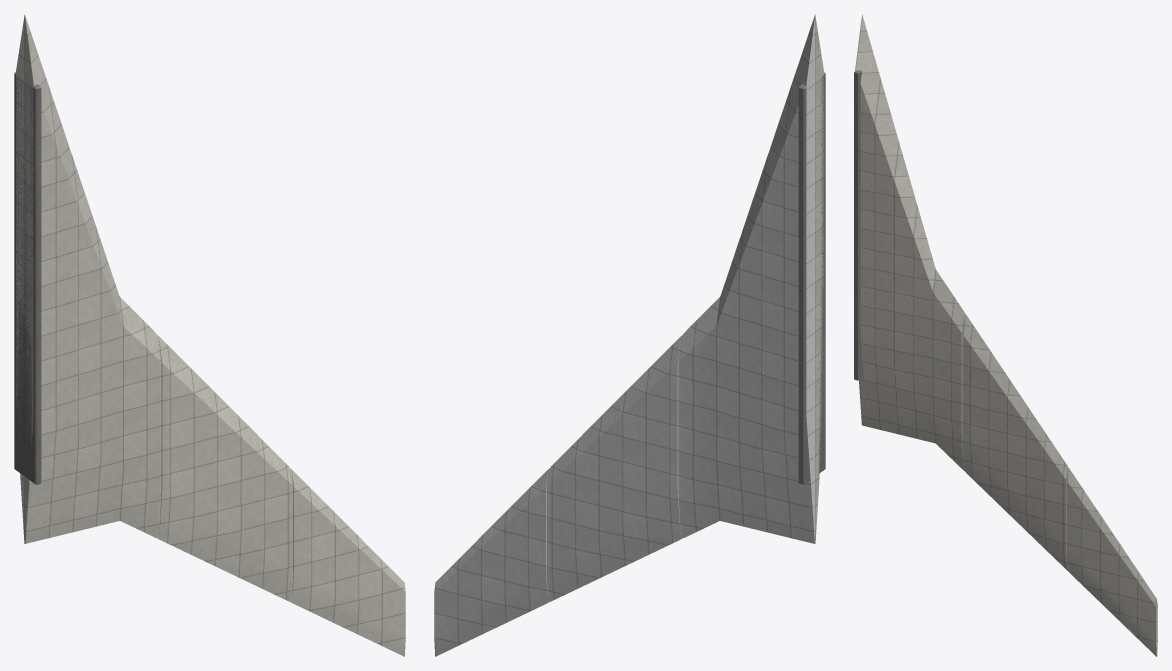
Rendered from ax_aero_17_wgd_delta_wing_s.glb.
3 renders of one model, left to right at view 1: azimuth 30°, elevation 25°; view 2: azimuth 150°, elevation 25°; view 3: azimuth 330°, elevation 25°, orthographic. The views are drawn at different scales.
Parts seen in each view (by area): view 1: wing_top, root_flange, wing_underside; view 2: wing_underside, root_flange, wing_top; view 3: wing_top, root_flange.
Boxes of the visible parts, bbox=[...] form: wing_top: bbox=[24, 14, 405, 656]; root_flange: bbox=[14, 72, 41, 484]; wing_underside: bbox=[16, 16, 24, 543]; wing_underside: bbox=[434, 14, 815, 656]; root_flange: bbox=[798, 72, 825, 484]; wing_top: bbox=[815, 16, 823, 543]; wing_top: bbox=[855, 14, 1156, 656]; root_flange: bbox=[854, 70, 863, 380].
Size of the model in its own units: 2.4 by 4.44 by 0.24.
3 materials, 3 textured.
